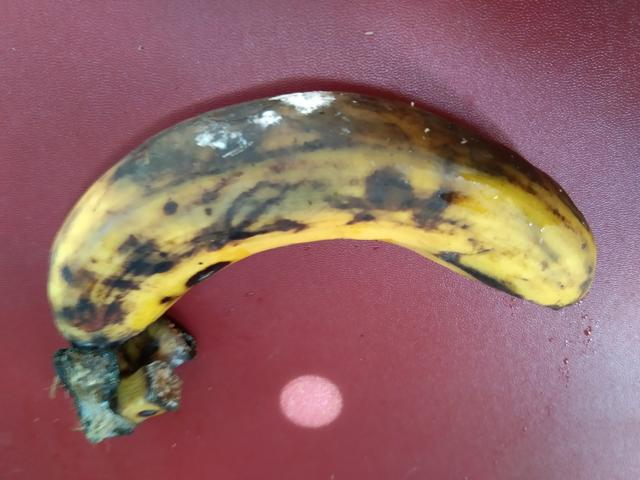rotten: (27, 67, 614, 348)
